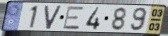1: (28, 5, 39, 29)
4: (84, 6, 101, 31)
8: (111, 6, 129, 31)
9: (130, 7, 149, 32)
E: (62, 6, 85, 31)
V: (43, 5, 63, 30)
